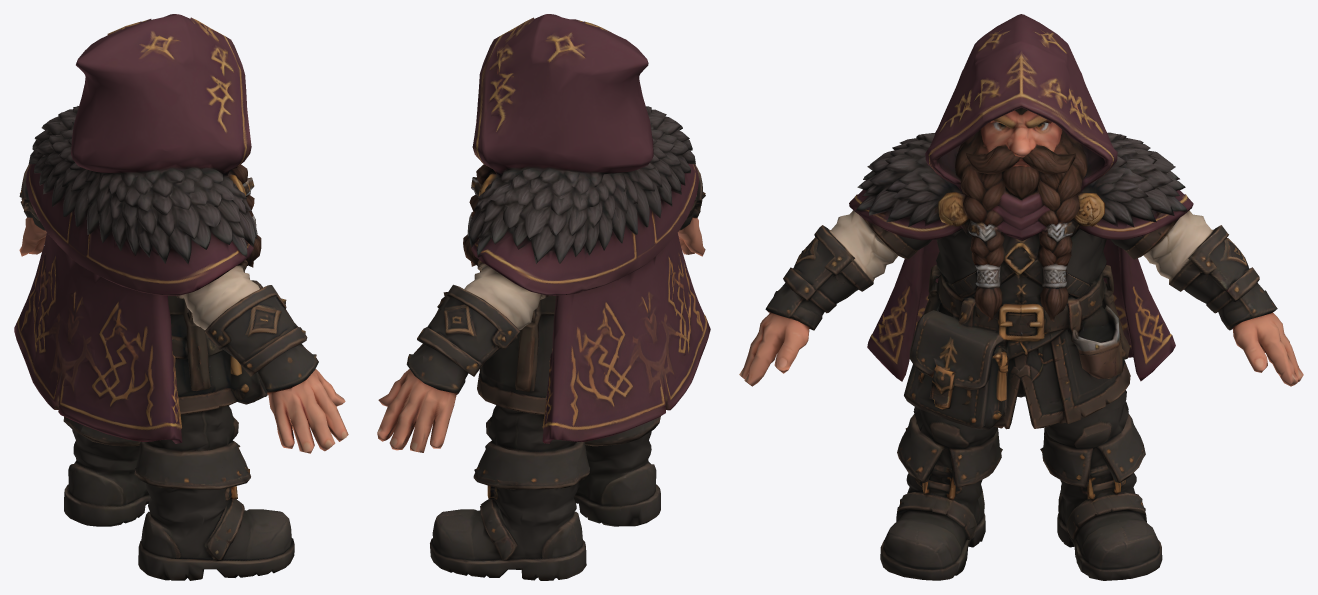
The model's file is dwarf_ranger_b_raw.glb.
The picture shows the model from 3 angles, left to right: view 1: azimuth 30°, elevation 25°; view 2: azimuth 150°, elevation 25°; view 3: azimuth 270°, elevation 25°; orthographic projection.
Parts seen in each view (by area): view 1: tripo_node_caccacbb-f462-4b5a-81f1-5df782a4e9ef; view 2: tripo_node_caccacbb-f462-4b5a-81f1-5df782a4e9ef; view 3: tripo_node_caccacbb-f462-4b5a-81f1-5df782a4e9ef.
Boxes of the visible parts, x1,y1,x2,y2 form: tripo_node_caccacbb-f462-4b5a-81f1-5df782a4e9ef: [14, 14, 348, 580]; tripo_node_caccacbb-f462-4b5a-81f1-5df782a4e9ef: [377, 14, 710, 580]; tripo_node_caccacbb-f462-4b5a-81f1-5df782a4e9ef: [739, 14, 1303, 580].
Size of the model in its own units: 0.4025 by 1 by 0.9975.
Materials: 1 (1 with a texture image).
